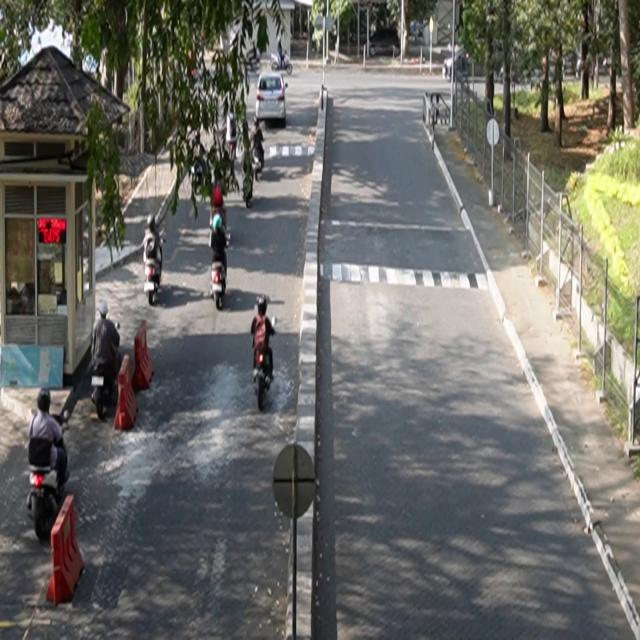car: (256, 73, 289, 128)
